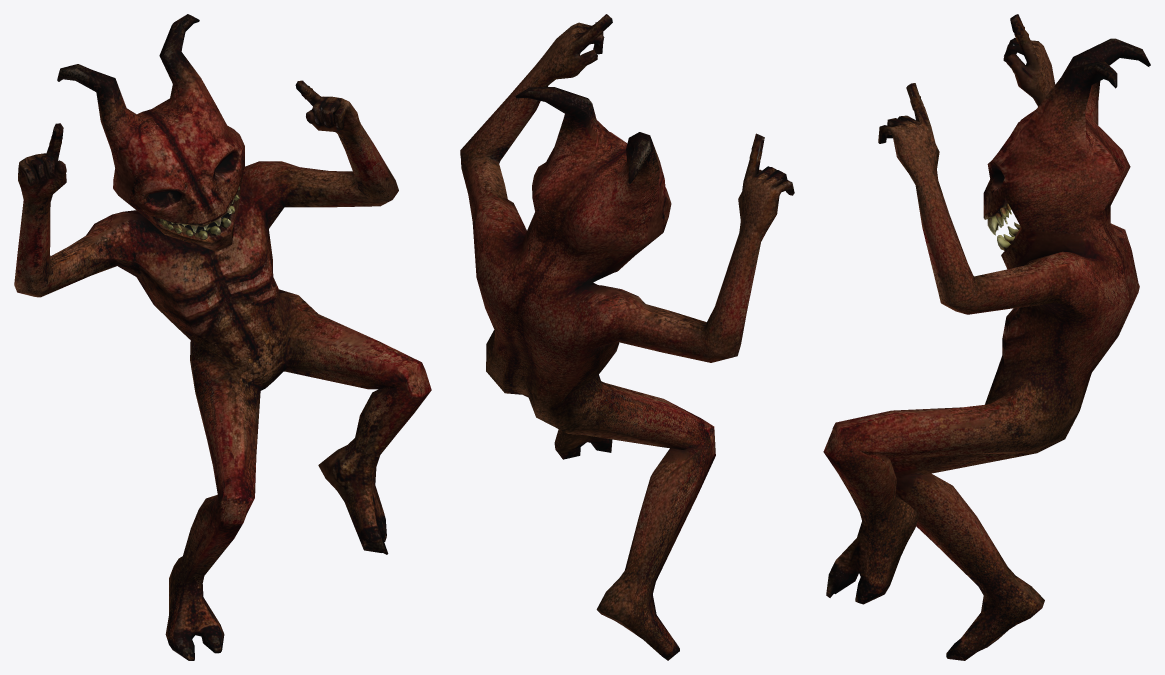
The model's file is Demonio.glb.
The picture shows the model from 3 angles, left to right: view 1: azimuth 30°, elevation 25°; view 2: azimuth 150°, elevation 25°; view 3: azimuth 270°, elevation 25°; orthographic projection. The views are drawn at different scales.
Parts seen in each view (by area): view 1: tripo_node_fccc2031-267e-4a26-9975-0b0aeb43c1fa; view 2: tripo_node_fccc2031-267e-4a26-9975-0b0aeb43c1fa; view 3: tripo_node_fccc2031-267e-4a26-9975-0b0aeb43c1fa.
Part boxes in pixels (x1=…): tripo_node_fccc2031-267e-4a26-9975-0b0aeb43c1fa: x1=14, y1=14, x2=431, y2=660; tripo_node_fccc2031-267e-4a26-9975-0b0aeb43c1fa: x1=460, y1=14, x2=794, y2=660; tripo_node_fccc2031-267e-4a26-9975-0b0aeb43c1fa: x1=823, y1=14, x2=1150, y2=660.
Size of the model in its own units: 0.623 by 0.998 by 0.4785.
1 material, 1 textured.
